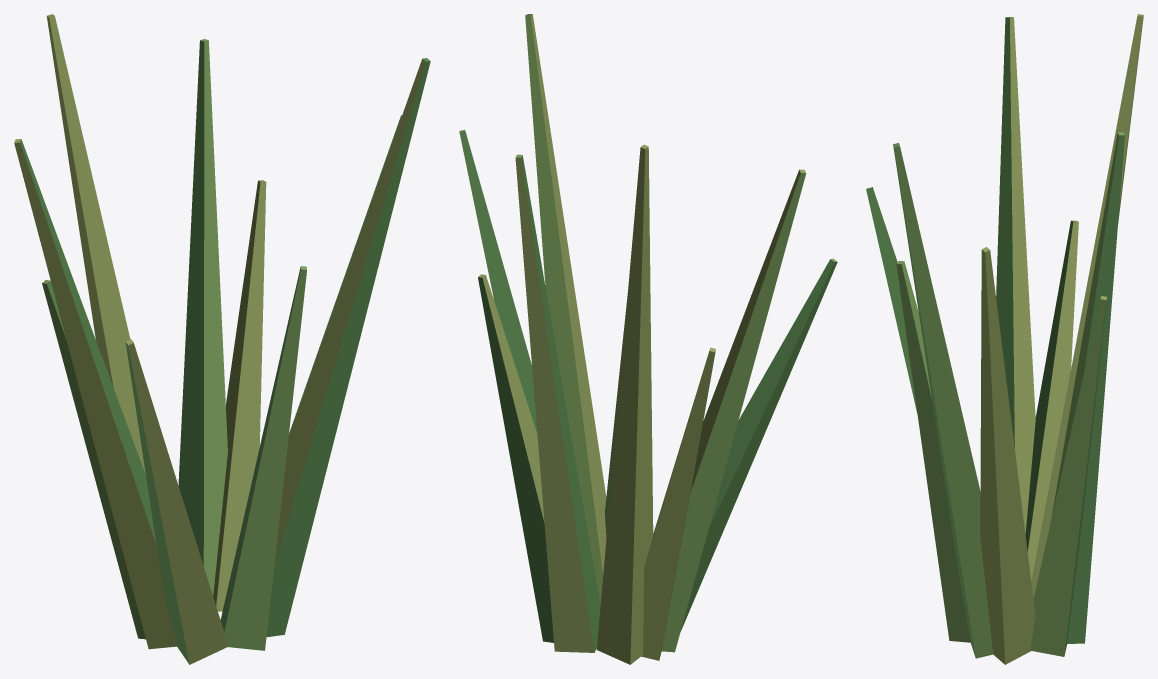
The model's file is grass_tuft_small.glb.
3 renders of one model, left to right at view 1: azimuth 30°, elevation 25°; view 2: azimuth 150°, elevation 25°; view 3: azimuth 270°, elevation 25°, orthographic. The views are drawn at different scales.
Visible parts, largest first — view 1: grass_tuft_small; view 2: grass_tuft_small; view 3: grass_tuft_small.
Boxes of the visible parts, bbox=[...] form: grass_tuft_small: bbox=[14, 14, 430, 664]; grass_tuft_small: bbox=[459, 14, 837, 664]; grass_tuft_small: bbox=[866, 14, 1143, 664].
Bounding box in the file's own units: 0.3964 × 0.5929 × 0.2581.
